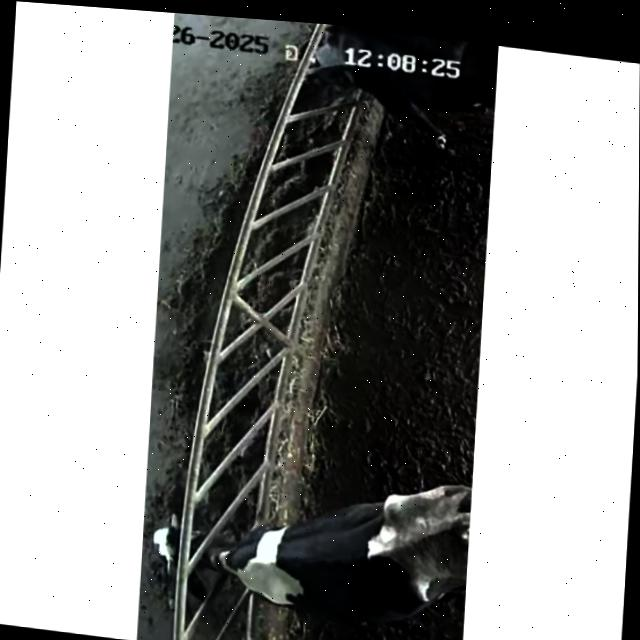eat: (139, 471, 322, 628), (243, 18, 451, 131)
